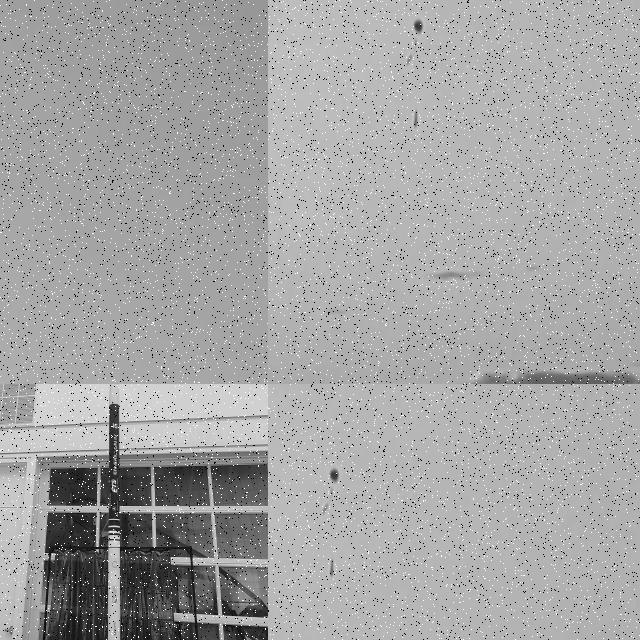Rocket: (108, 384, 120, 640), (329, 558, 334, 576), (413, 110, 418, 126)
